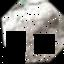Morning glory: (0, 0, 59, 54)
